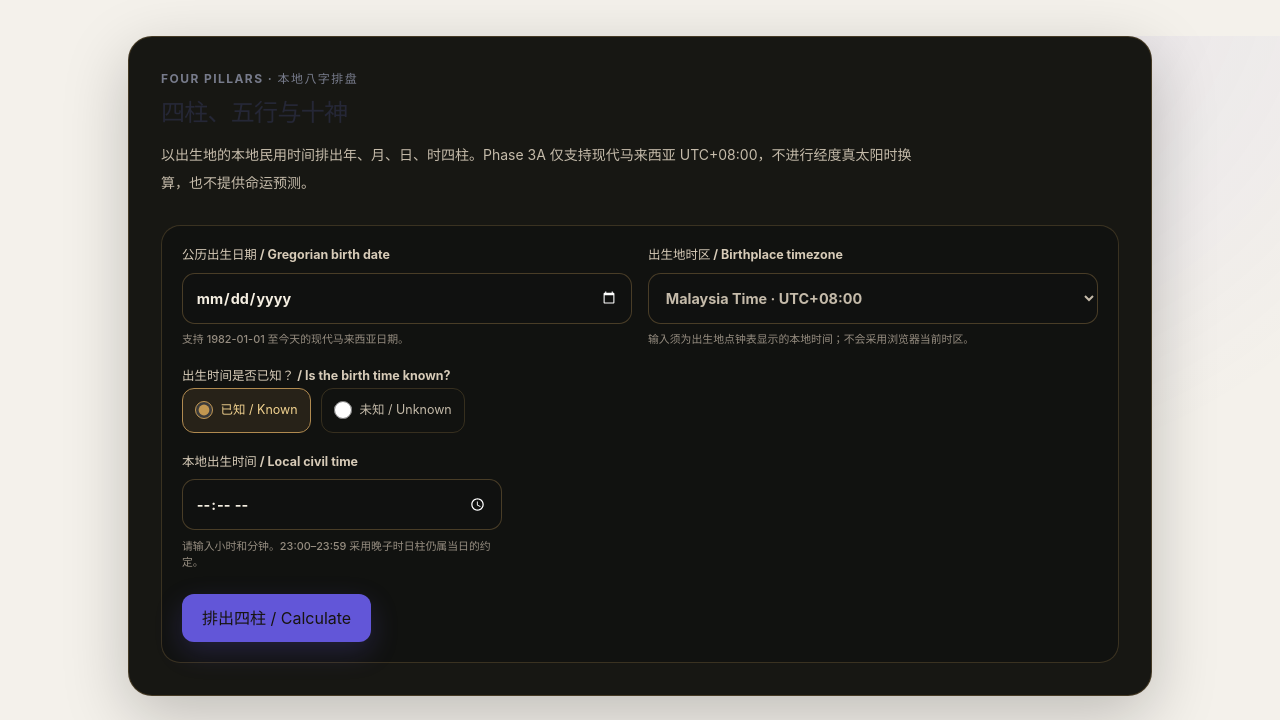
Test case: local BaZi experience › validates required birth information and impossible dates
Click the button "排出四柱 / Calculate" at (277, 618), box [182,594,371,642]
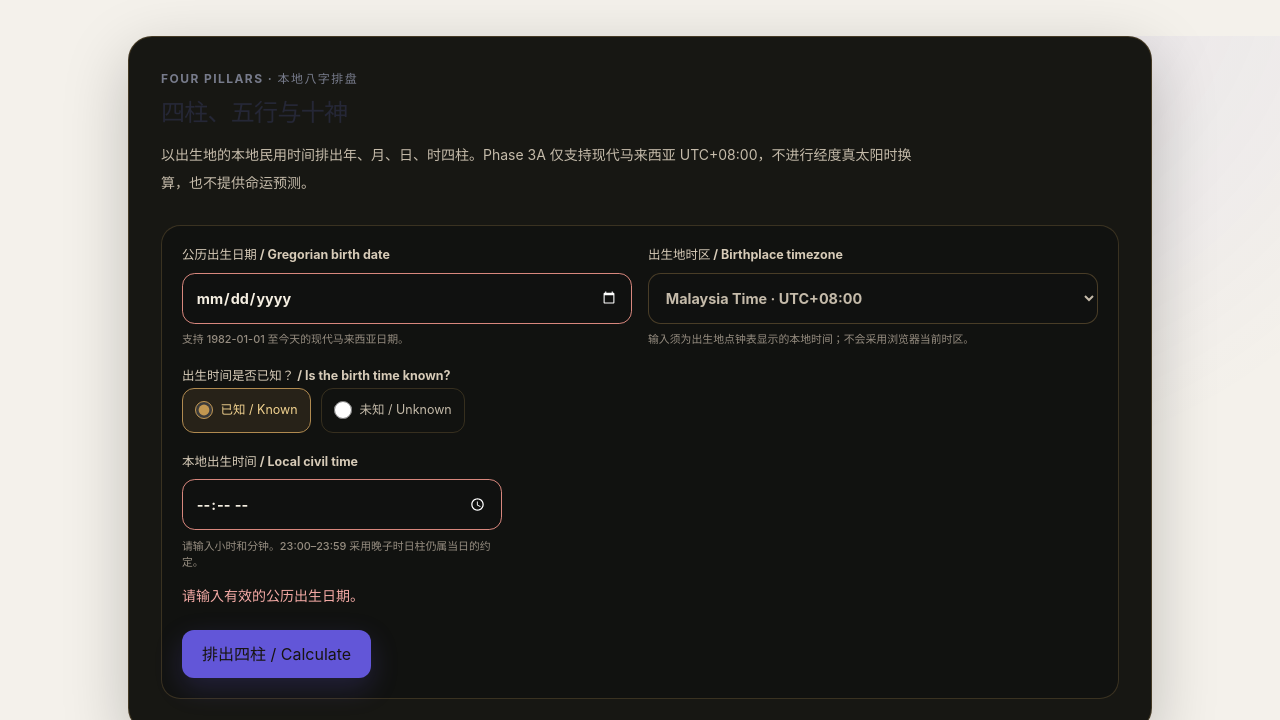
Expected: the message shows "有效的公历出生日期", [182,587,364,604]
Type "2024-02-29" into the date field labelled "公历出生日期 / Gregorian birth date 支持 1982-01-01 至今天的现代马来西亚日期。" at (407, 298), box [182,273,632,324]
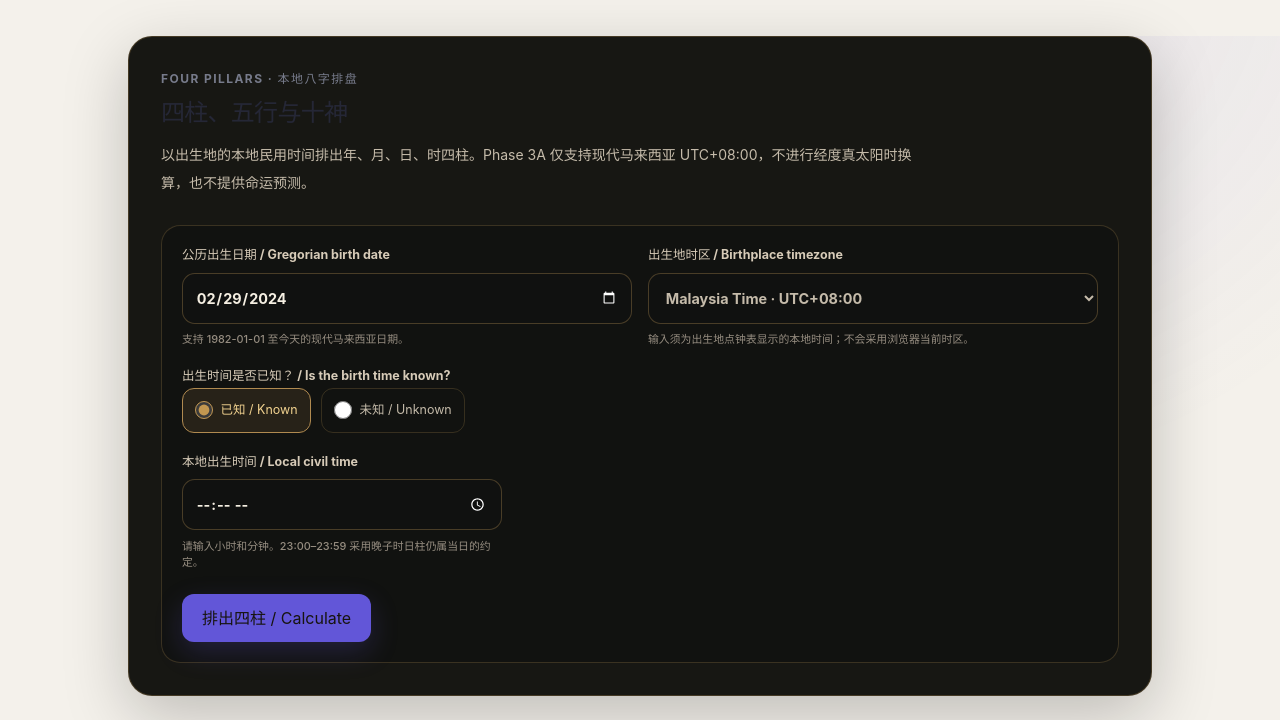
Click the button "排出四柱 / Calculate" at (277, 618), box [182,594,371,642]
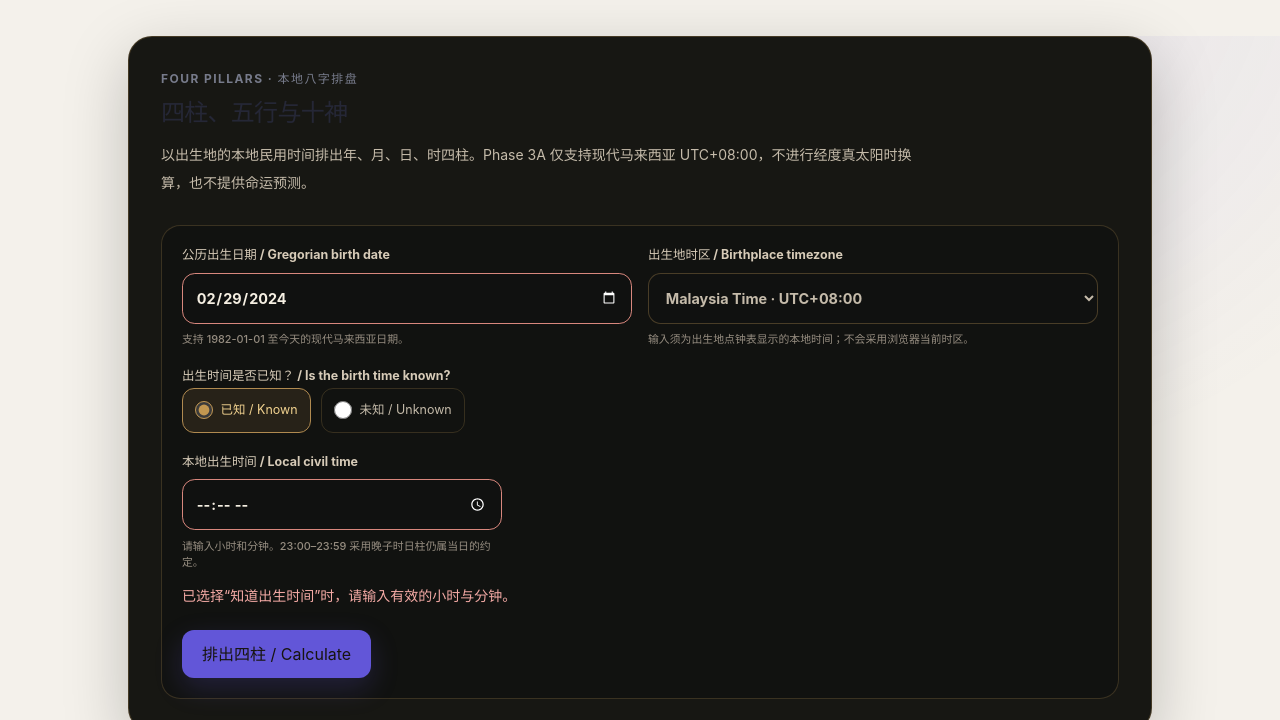
Expected: the message shows "出生时间", [182,587,516,604]
